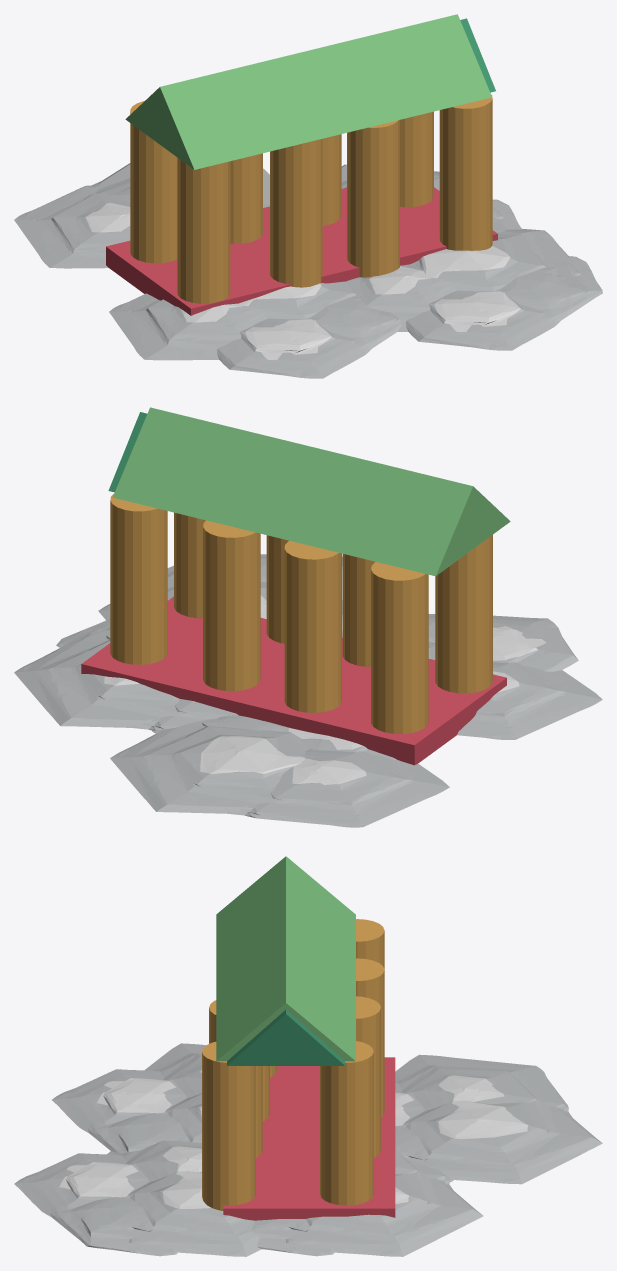
Rendered from acropolis (1).glb.
The picture shows the model from 3 angles, top to bottom: view 1: azimuth 30°, elevation 25°; view 2: azimuth 150°, elevation 25°; view 3: azimuth 270°, elevation 25°; orthographic projection. The views are drawn at different scales.
Visible parts, largest first — view 1: Mesh_Mesh_head_geo.001_lambert2SG.001; view 2: Mesh_Mesh_head_geo.001_lambert2SG.001; view 3: Mesh_Mesh_head_geo.001_lambert2SG.001.
Part boxes in pixels (x1,y1,x2,y2): Mesh_Mesh_head_geo.001_lambert2SG.001: (14,14,602,378); Mesh_Mesh_head_geo.001_lambert2SG.001: (14,407,602,827); Mesh_Mesh_head_geo.001_lambert2SG.001: (14,856,602,1256).
Size of the model in its own units: 141 by 68 by 164.
